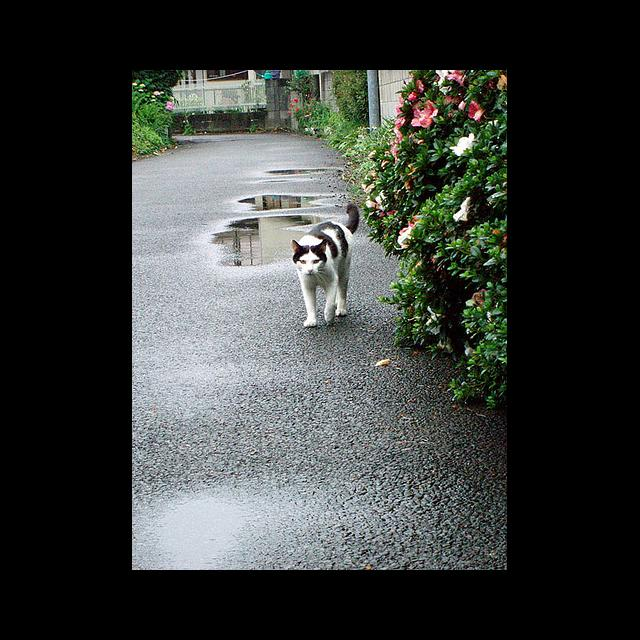animals: (292, 238, 326, 272)
